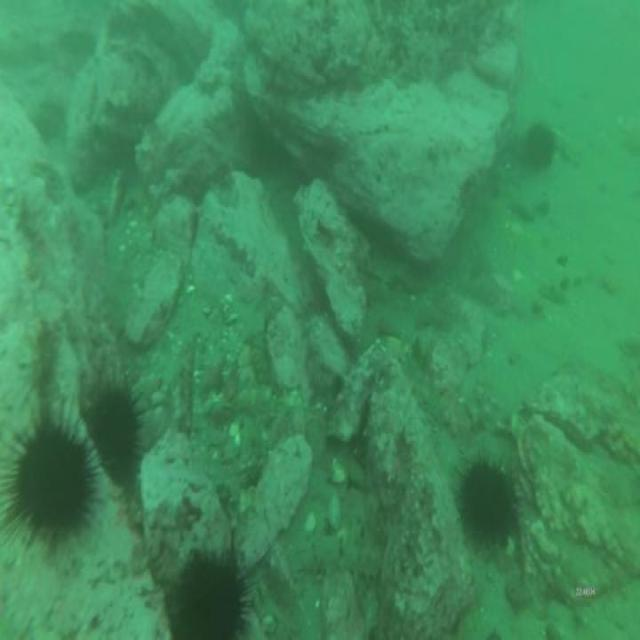echinus: (0, 399, 100, 567), (165, 540, 255, 640), (450, 442, 518, 558), (82, 379, 148, 482), (521, 114, 557, 177)
